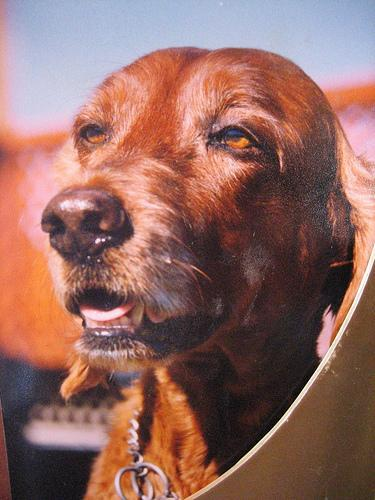Irish_setter: (42, 46, 373, 498)
